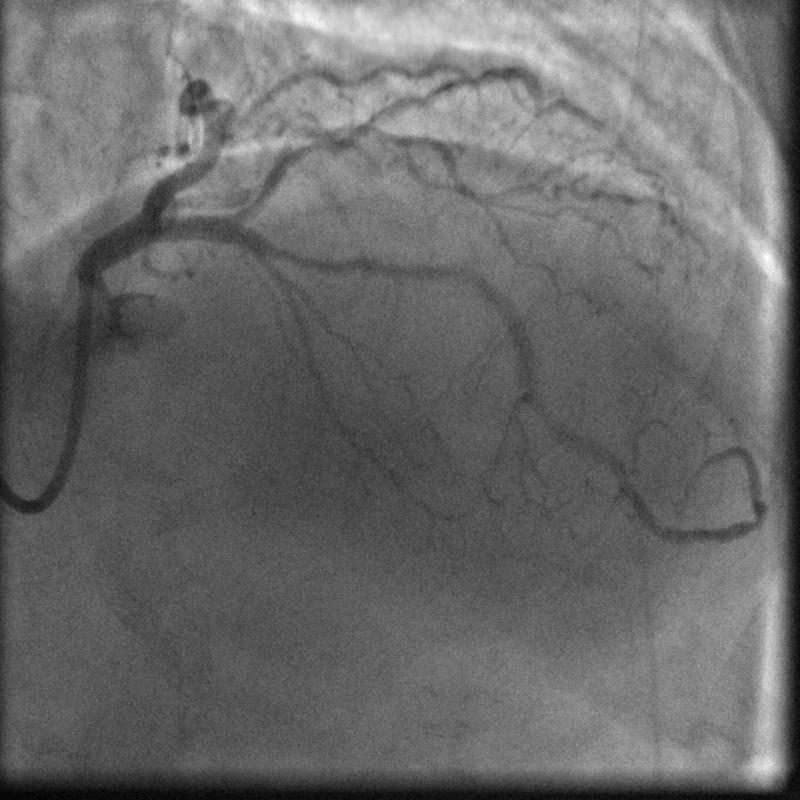Stenosis: (285, 242, 336, 283)
